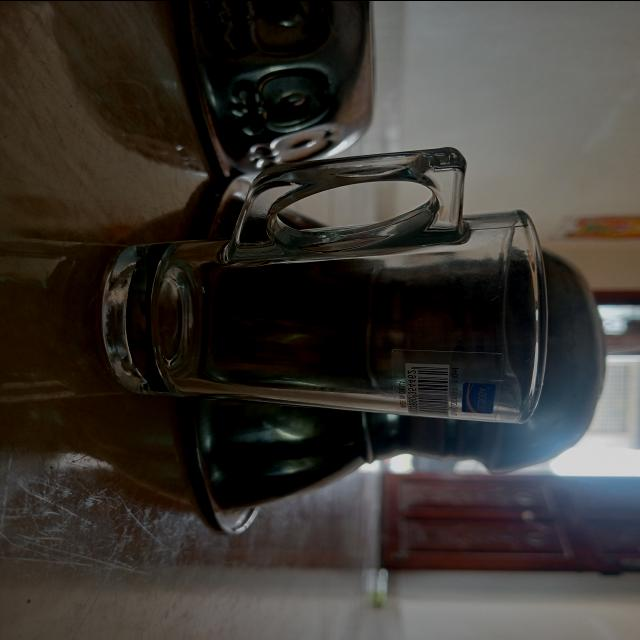glass-VX4N: (90, 152, 546, 428)
